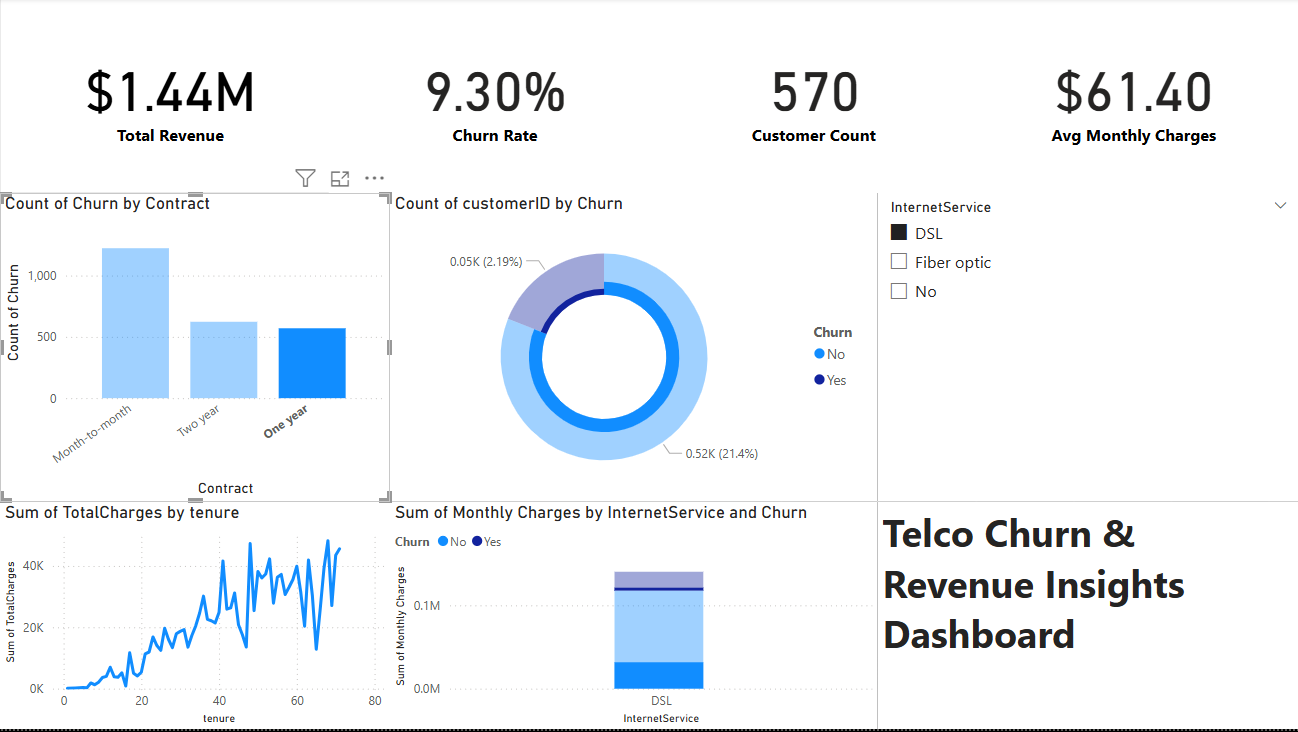

The page's visual inventory and layout, read from the dashboard file:
{"tool":"powerbi","page":{"name":"Page 1","canvas":[1280,720],"ordinal":0},"visuals":[{"type":"card","fields":{"Values":["TelcoCustomerChurn.Total Revenue"]},"box":[0,0,336,192],"z":0},{"type":"card","fields":{"Values":["TelcoCustomerChurn.Churn Rate"]},"box":[323.8,0,328,192.1],"z":1000},{"type":"card","fields":{"Values":["TelcoCustomerChurn.Customer Count"]},"box":[638.1,0,328,192.1],"z":2000},{"type":"card","fields":{"Values":["TelcoCustomerChurn.Avg Monthly Charges"]},"box":[952,0,328,192.1],"z":3000},{"type":"clusteredColumnChart","fields":{"Category":["TelcoCustomerChurn.Contract"],"Y":["CountNonNull(TelcoCustomerChurn.Churn)"]},"box":[0,192,384,304],"z":4000},{"type":"donutChart","fields":{"Category":["TelcoCustomerChurn.Churn"],"Y":["CountNonNull(TelcoCustomerChurn.customerID)"]},"box":[384,192,480,304],"z":5000},{"type":"slicer","fields":{"Values":["TelcoCustomerChurn.InternetService"]},"box":[864,192,416,304],"z":6000},{"type":"lineChart","fields":{"Category":["TelcoCustomerChurn.tenure"],"Y":["Sum(TelcoCustomerChurn.TotalCharges)"]},"box":[0,496,384,224],"z":7000},{"type":"columnChart","fields":{"Category":["TelcoCustomerChurn.InternetService"],"Y":["Sum(TelcoCustomerChurn.Monthly Charges)"],"Series":["TelcoCustomerChurn.Churn"]},"box":[384,496,480,224],"z":8000},{"type":"textbox","box":[864,496,416,224],"z":9000}]}

Visuals, with their boxes in screenshot pixels (x1, y1, x2, y2), scaled from the page's 1280x720 canvas onto the 1298x732 screenshot:
card - TelcoCustomerChurn.Total Revenue: (0,0,341,195)
card - TelcoCustomerChurn.Churn Rate: (328,0,661,195)
card - TelcoCustomerChurn.Customer Count: (647,0,980,195)
card - TelcoCustomerChurn.Avg Monthly Charges: (965,0,1297,195)
clusteredColumnChart - TelcoCustomerChurn.Contract x CountNonNull(TelcoCustomerChurn.Churn): (0,195,389,504)
donutChart - TelcoCustomerChurn.Churn x CountNonNull(TelcoCustomerChurn.customerID): (389,195,876,504)
slicer - TelcoCustomerChurn.InternetService: (876,195,1297,504)
lineChart - TelcoCustomerChurn.tenure x Sum(TelcoCustomerChurn.TotalCharges): (0,504,389,731)
columnChart - TelcoCustomerChurn.InternetService x Sum(TelcoCustomerChurn.Monthly Charges): (389,504,876,731)
textbox: (876,504,1297,731)
